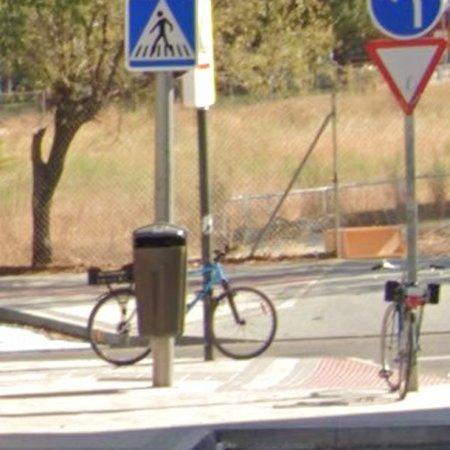bicycles: (186, 249, 278, 360), (381, 271, 442, 400), (88, 265, 150, 365)
